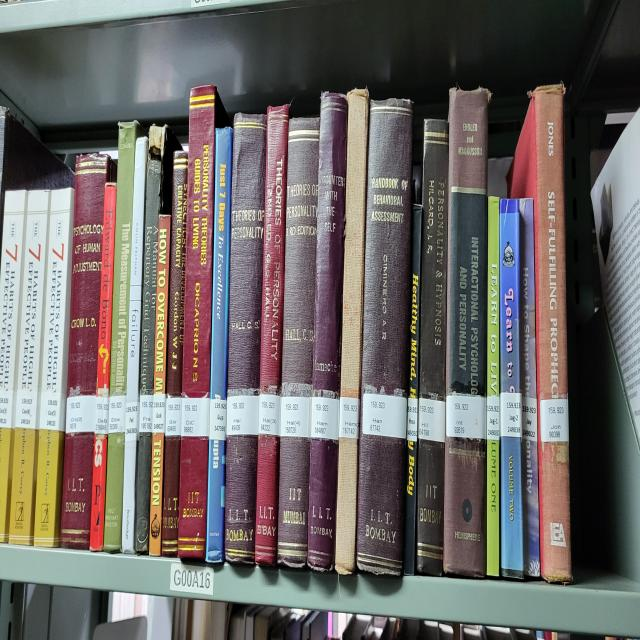Book: (509, 84, 571, 584), (356, 100, 412, 576), (178, 87, 226, 560), (444, 89, 490, 576), (60, 154, 112, 549), (308, 92, 348, 571), (278, 119, 320, 568), (135, 124, 178, 555), (225, 114, 266, 563), (335, 89, 369, 574), (255, 106, 289, 565), (104, 122, 140, 552), (416, 119, 449, 574), (9, 189, 51, 544), (34, 187, 74, 547), (121, 138, 149, 552), (206, 127, 232, 563), (161, 149, 188, 557), (0, 189, 28, 541), (90, 181, 116, 549), (499, 200, 524, 579), (519, 198, 540, 576), (149, 214, 171, 555), (404, 203, 422, 576), (486, 198, 500, 576)
Label: (362, 392, 408, 438), (446, 395, 486, 438), (226, 395, 259, 436), (280, 395, 311, 438), (311, 395, 339, 441), (540, 398, 569, 441), (419, 398, 445, 444), (181, 398, 210, 438), (66, 395, 96, 433), (40, 392, 66, 430), (259, 392, 281, 436), (500, 392, 521, 438), (15, 390, 39, 430), (339, 398, 360, 438), (522, 395, 538, 441), (209, 398, 226, 441), (165, 395, 181, 436), (109, 395, 126, 433), (486, 395, 500, 441), (0, 390, 16, 427), (152, 392, 166, 433), (125, 400, 139, 441), (95, 395, 109, 436), (139, 395, 154, 433), (406, 398, 419, 441)
